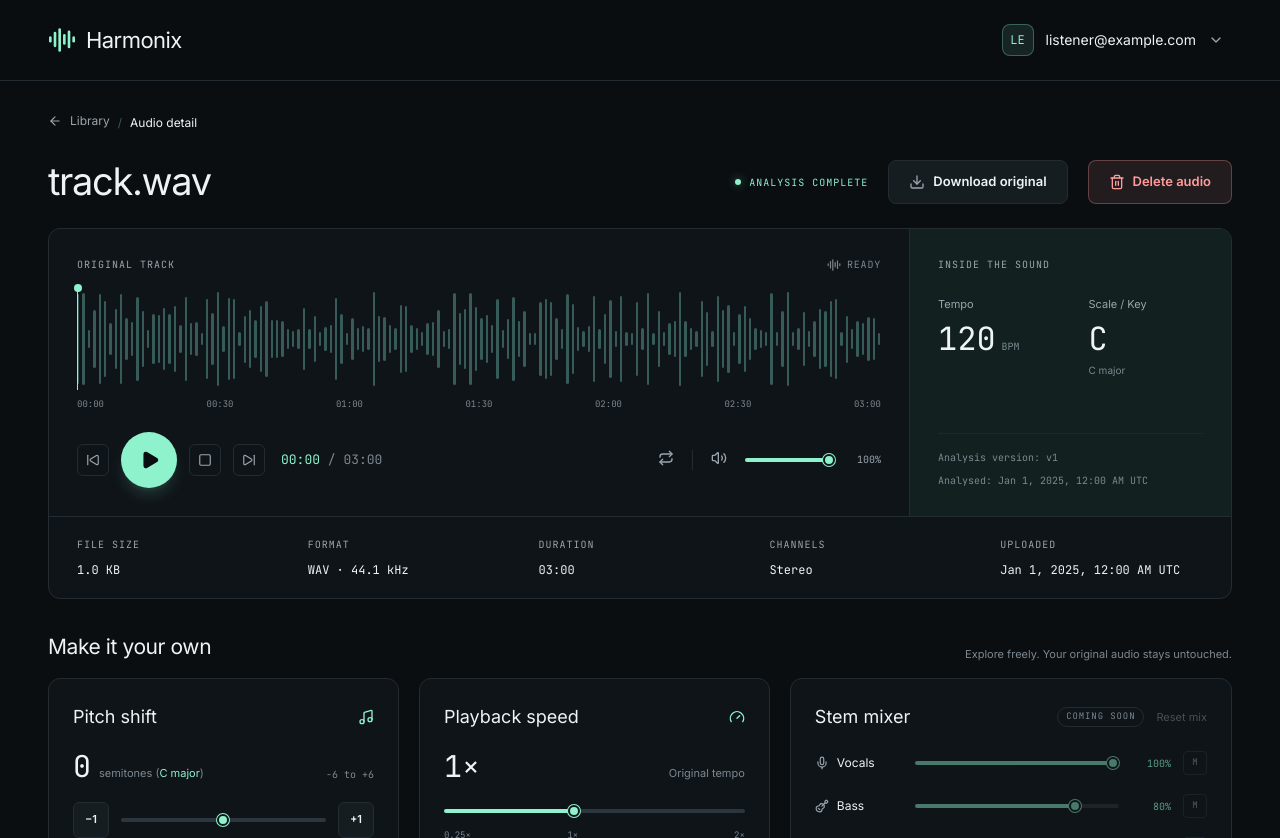
Test case: AudioDetailPage playback rate › resets to the default speed without restarting playback
The width and height of the screenshot is (1280, 838).
Step 1. Set the slider named "playback speed in multiples of normal speed" to "1.5" → (655, 811), box [444,801,745,821]
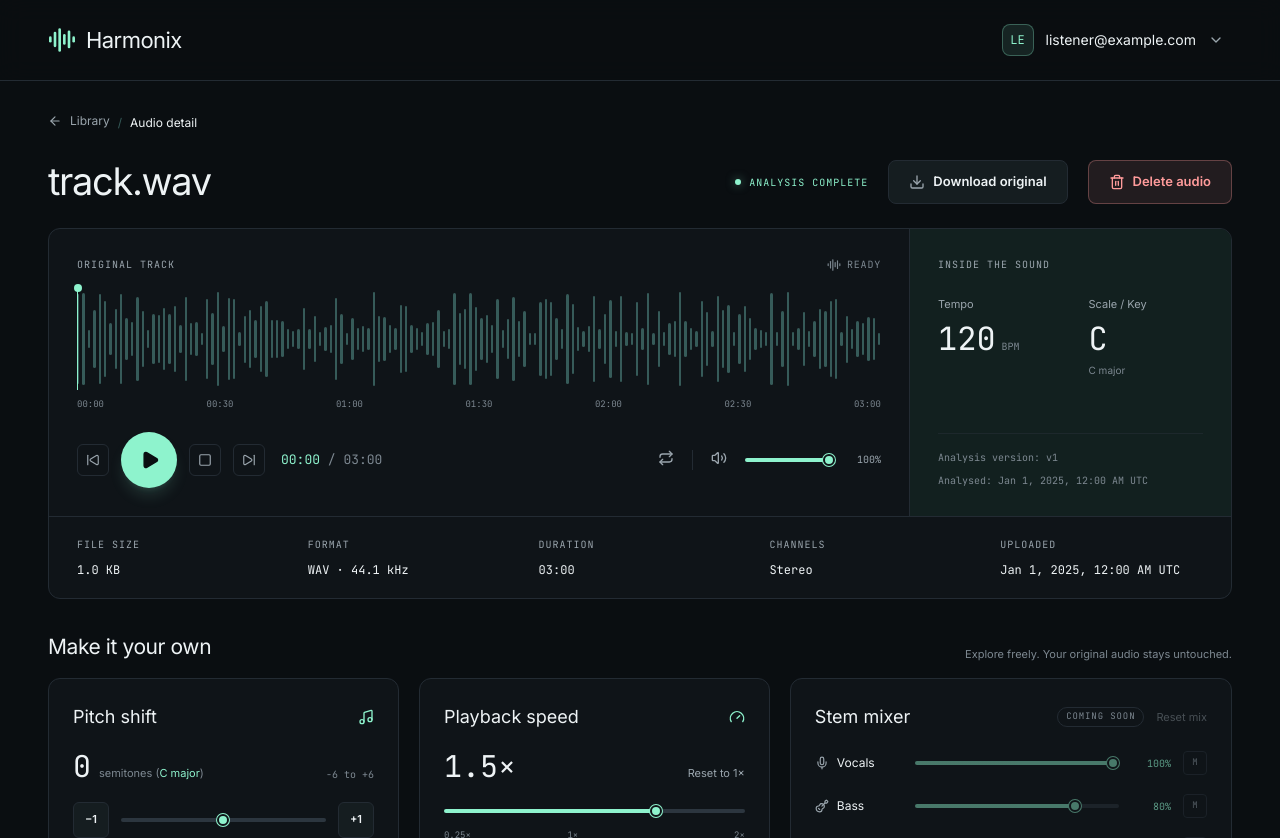
Step 2. Click the button with aria-label "reset playback speed to default" → (716, 773), box [688,764,745,781]
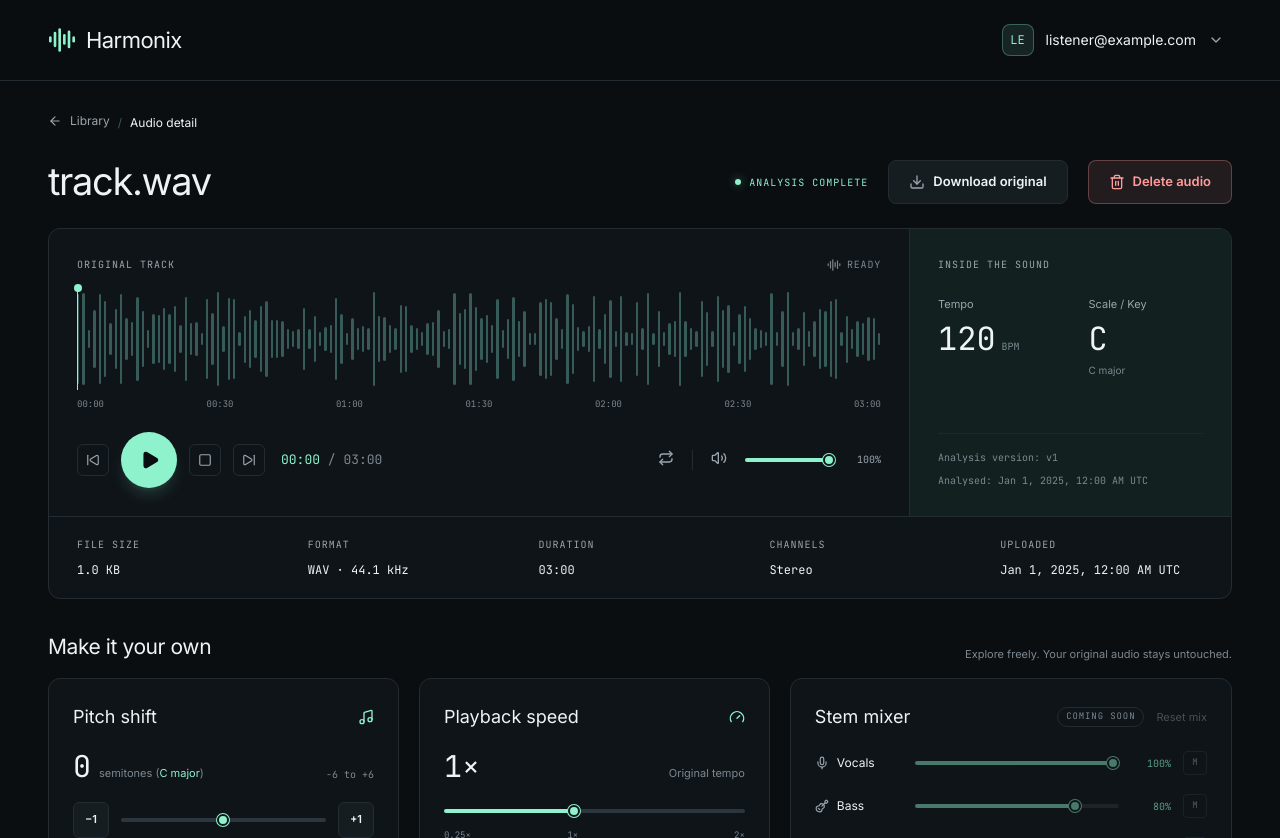
Expected: the slider named "playback speed in multiples of normal speed" holds "1", [444,801,745,821]
